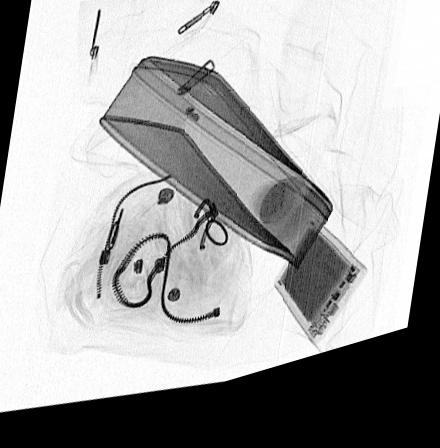Powerbank: (272, 232, 369, 362)
